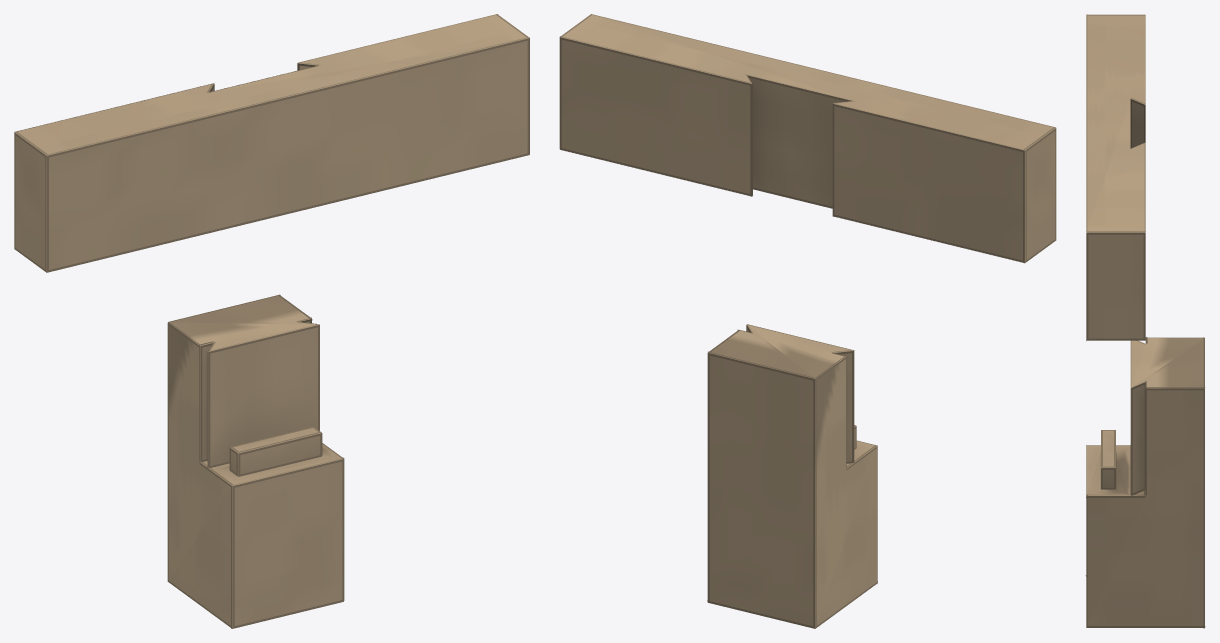
The model's file is suitsuki-sashi-shikuchi.glb.
3 views of the same model, side by side, from view 1: azimuth 30°, elevation 25°; view 2: azimuth 150°, elevation 25°; view 3: azimuth 270°, elevation 25° (orthographic). The views are drawn at different scales.
Visible parts, largest first — view 1: part-b, part-a; view 2: part-b, part-a; view 3: part-a, part-b.
Boxes of the visible parts, x1,y1,x2,y2 form: part-b: (14, 14, 529, 272); part-a: (167, 294, 344, 628); part-b: (559, 14, 1056, 263); part-a: (707, 324, 877, 628); part-a: (1085, 337, 1205, 628); part-b: (1086, 14, 1145, 340).
Size of the model in its own units: 0.3926 by 0.4015 by 0.0911.
